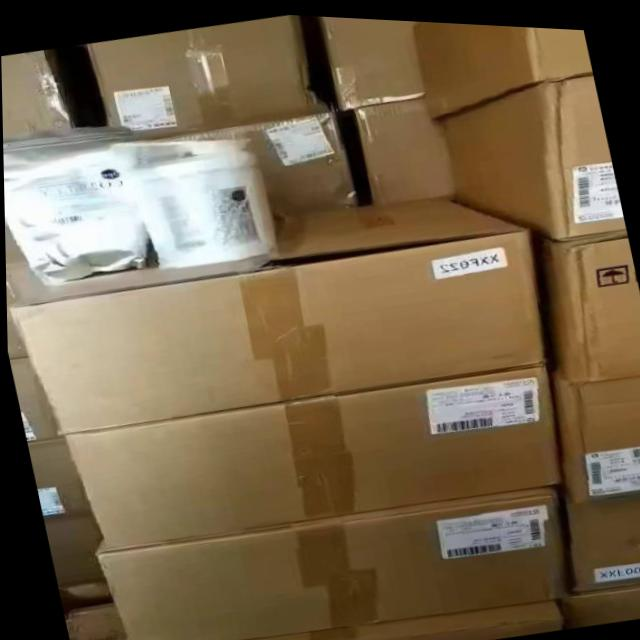box: (5, 191, 544, 432), (55, 362, 556, 542), (95, 478, 562, 640), (440, 66, 626, 238), (87, 12, 326, 142), (113, 107, 356, 215), (410, 17, 592, 121), (228, 594, 568, 640), (544, 224, 640, 377), (553, 362, 640, 496), (352, 90, 452, 203), (26, 436, 101, 586), (320, 13, 423, 107), (561, 482, 640, 585), (1, 55, 76, 151), (4, 222, 47, 361), (13, 356, 58, 439), (562, 576, 640, 621), (57, 578, 113, 640)
